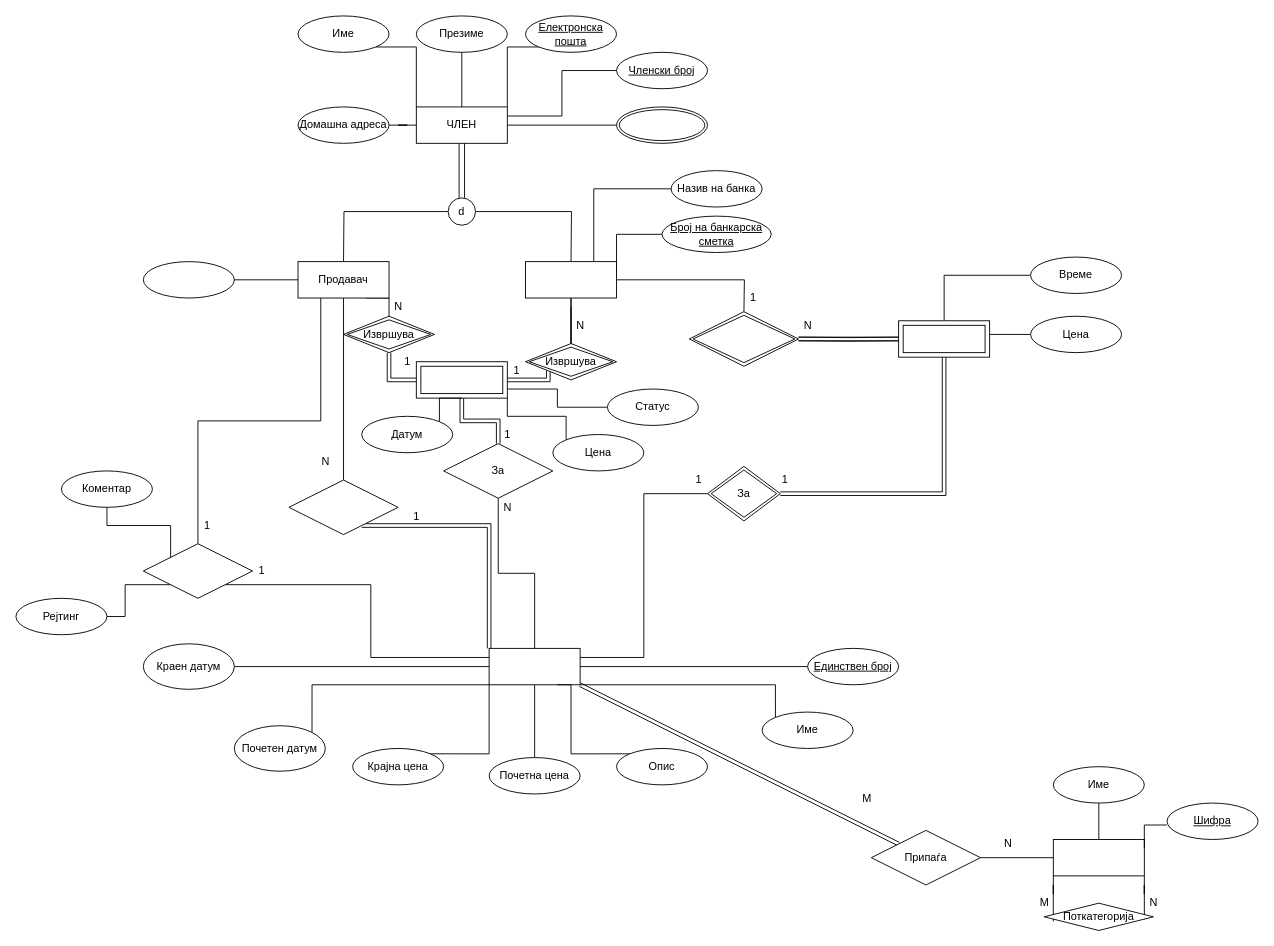
Image size: 1274x946. Some labels were removed from this diagram. The shapes that lost their labels are listed below. From the top down, each one's centre as x and y in pixels, then its label:
At point (662, 124): "Телефонски броеви".
At point (188, 279): "Адреса за достава".
At point (571, 279): "Купувач".
At point (743, 338): "Прави".
At point (944, 338): "Понуда".
At point (461, 379): "Трансакција".
At point (343, 507): "Нуди".
At point (197, 570): "Испорака".
At point (534, 666): "Предмет".
At point (1098, 857): "Категорија".
